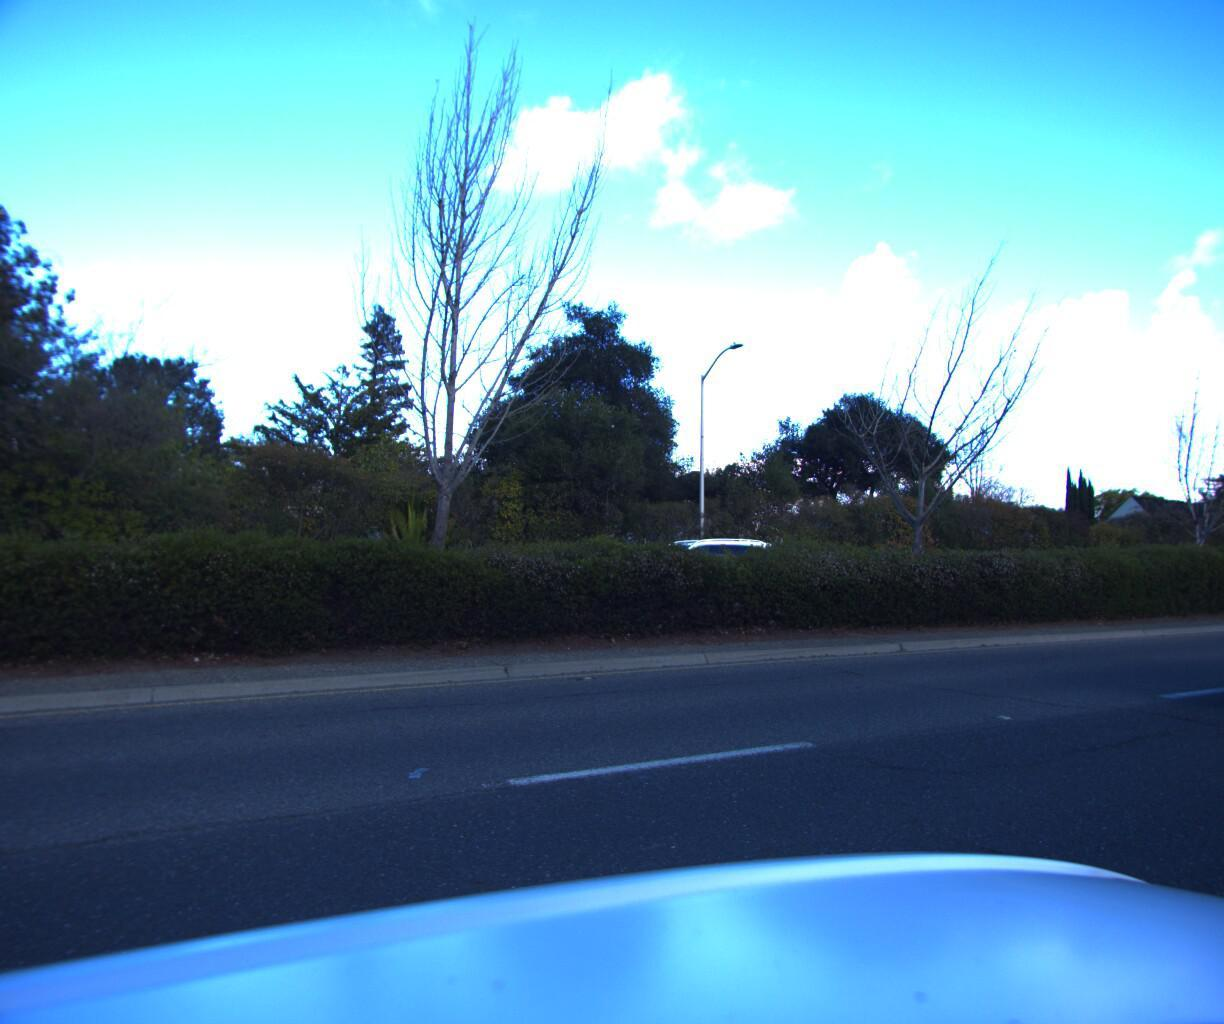car: (609, 536, 799, 613), (1217, 558, 1224, 760)
